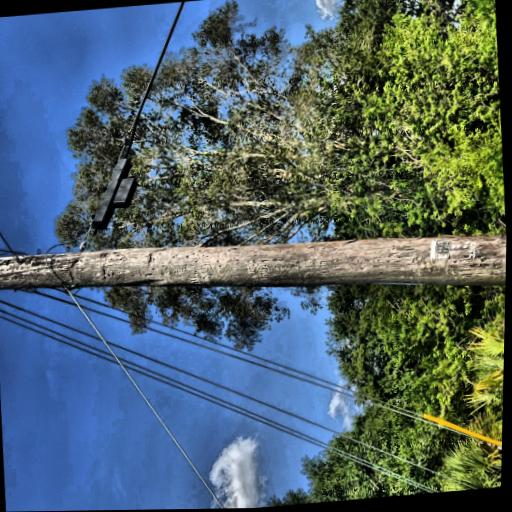pole: (13, 4, 177, 512)
